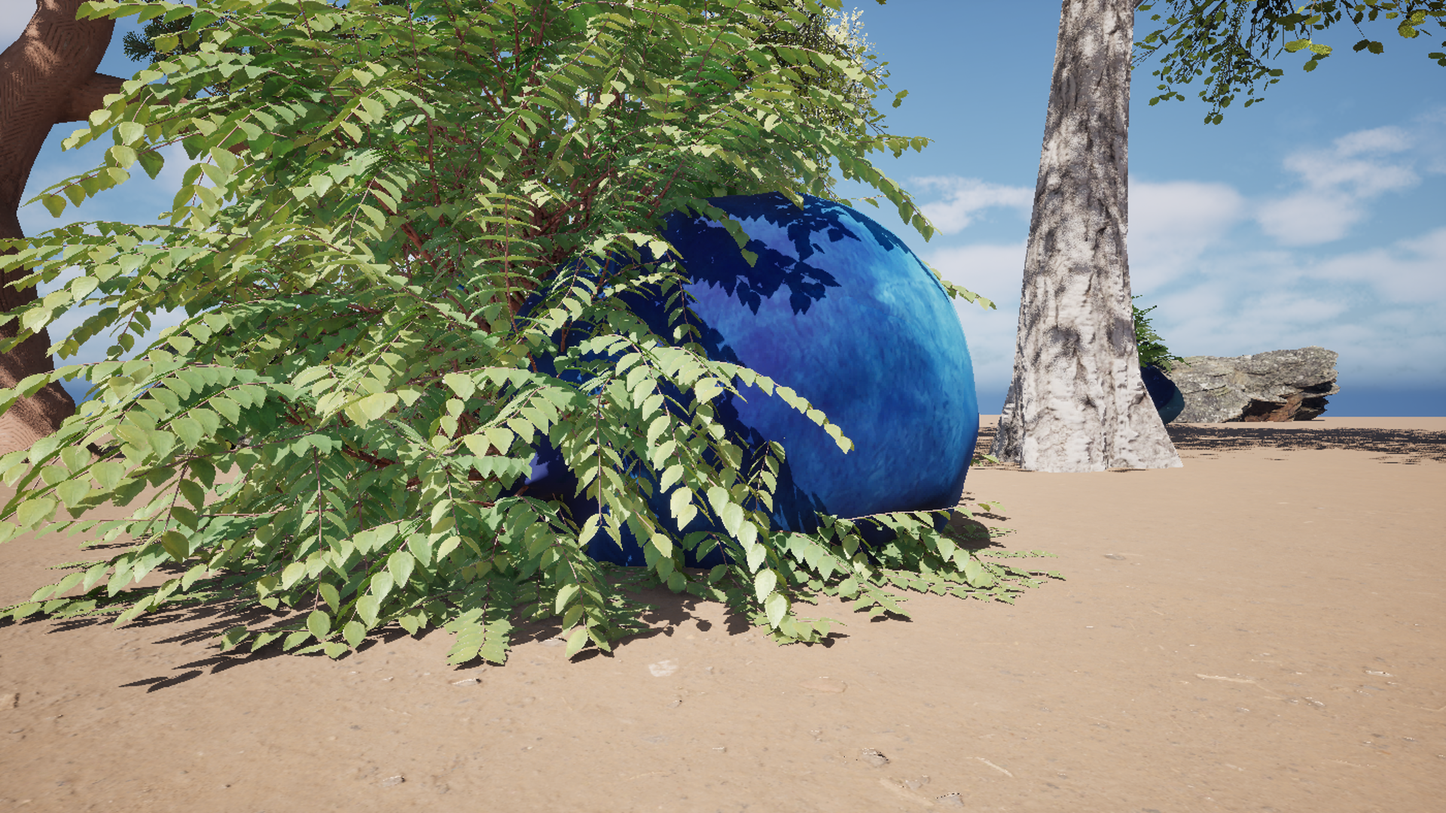Piplup: (347, 0, 1115, 813)
